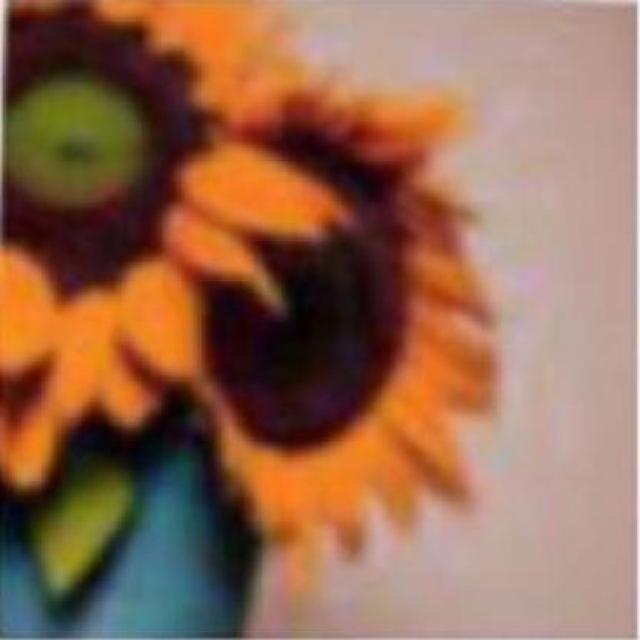sunflower: (161, 105, 510, 529), (0, 0, 318, 430)
